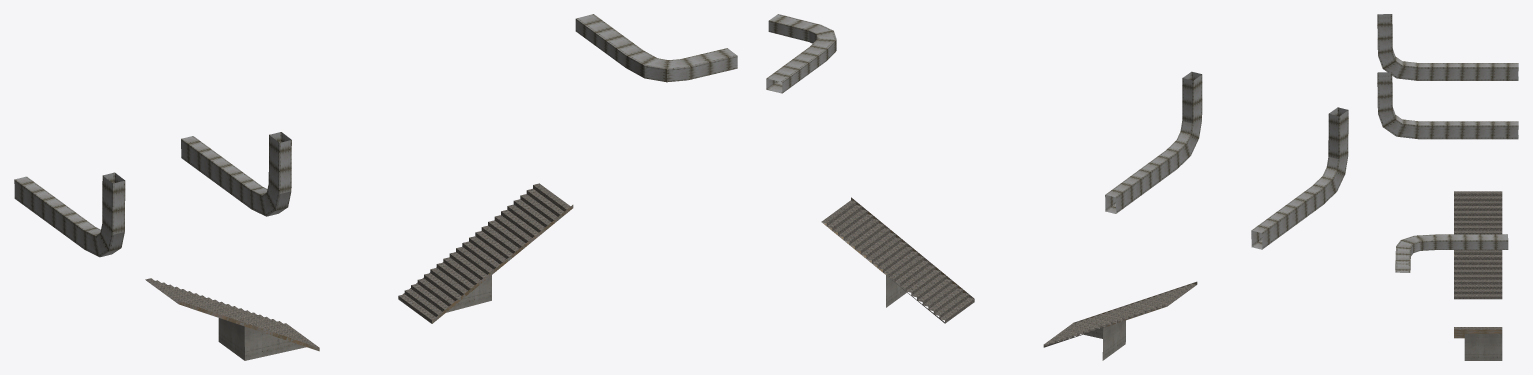
File: a51_sci_stair.obj
The picture shows the model from 3 angles, left to right: view 1: azimuth 30°, elevation 25°; view 2: azimuth 150°, elevation 25°; view 3: azimuth 270°, elevation 25°; orthographic projection. The views are drawn at different scales.
Parts seen in each view (by area): view 1: a51_sci_stair; view 2: a51_sci_stair; view 3: a51_sci_stair.
Part boxes in pixels (box(x1,y1,x2,y2)): a51_sci_stair: box(14, 14, 737, 360); a51_sci_stair: box(766, 14, 1348, 360); a51_sci_stair: box(1377, 14, 1518, 360).
Bounding box in the file's own units: 24.84 × 10.09 × 6.66.
4 materials, 4 textured.
